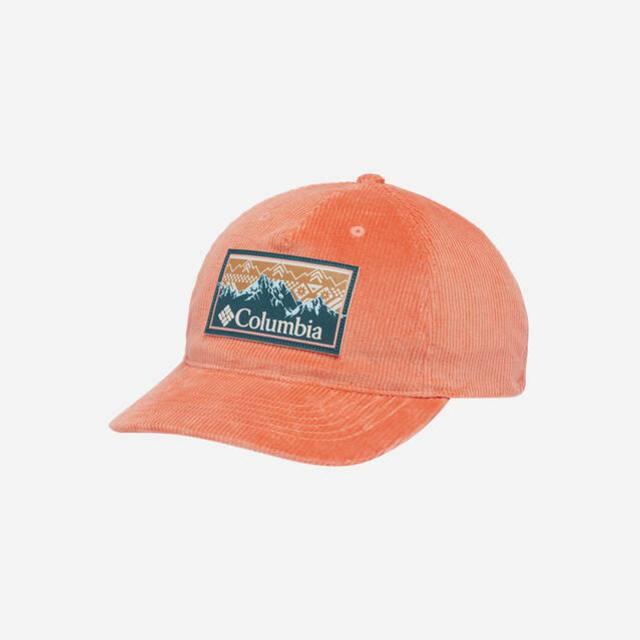Nonhelmet: (106, 170, 531, 469)
